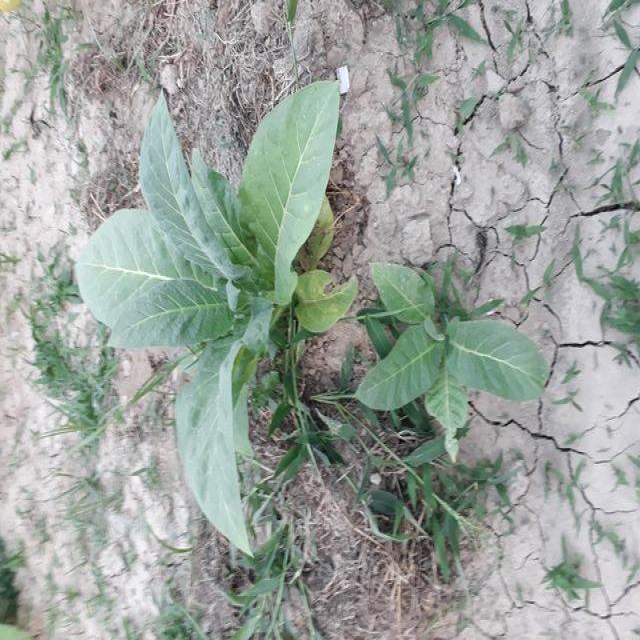crop: (79, 66, 354, 566)
